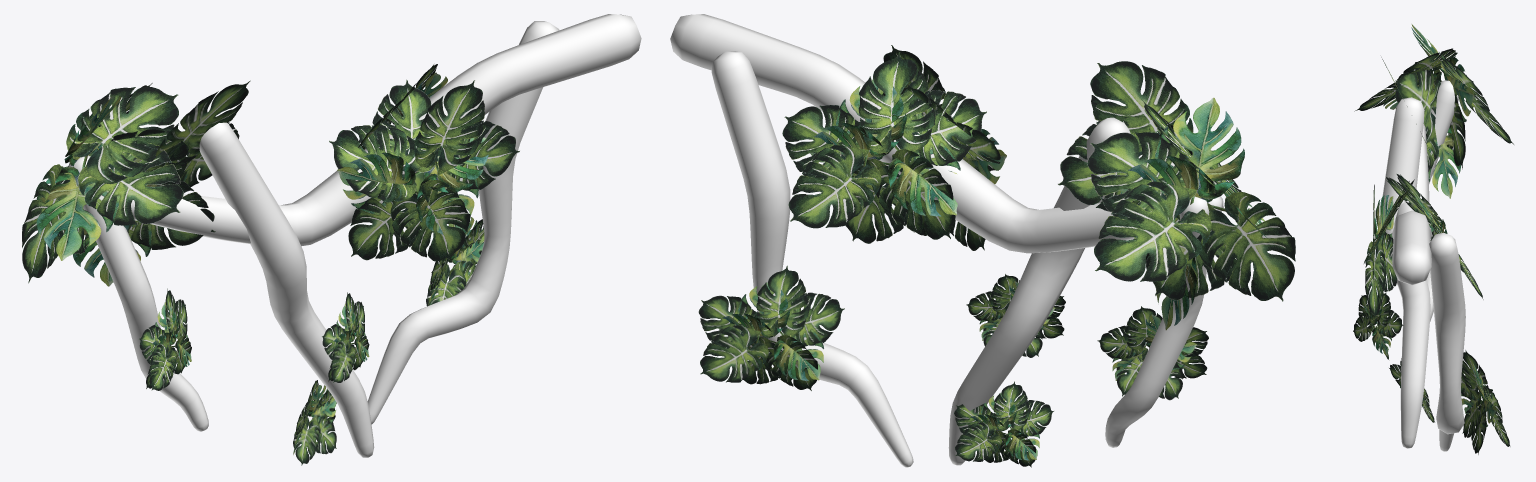
The model's file is Vine.fbx.
The picture shows the model from 3 angles, left to right: view 1: azimuth 30°, elevation 25°; view 2: azimuth 150°, elevation 25°; view 3: azimuth 270°, elevation 25°; orthographic projection. The views are drawn at different scales.
Parts seen in each view (by area): view 1: Leaves, Vines; view 2: Leaves, Vines; view 3: Vines, Leaves.
Part boxes in pixels (bbox=[...]): Leaves: bbox=[22, 64, 519, 465]; Vines: bbox=[68, 14, 641, 457]; Leaves: bbox=[698, 45, 1295, 467]; Vines: bbox=[670, 14, 1223, 467]; Vines: bbox=[1379, 80, 1465, 451]; Leaves: bbox=[1353, 24, 1513, 454].
Bounding box in the file's own units: 14.69 × 9.81 × 4.92.
